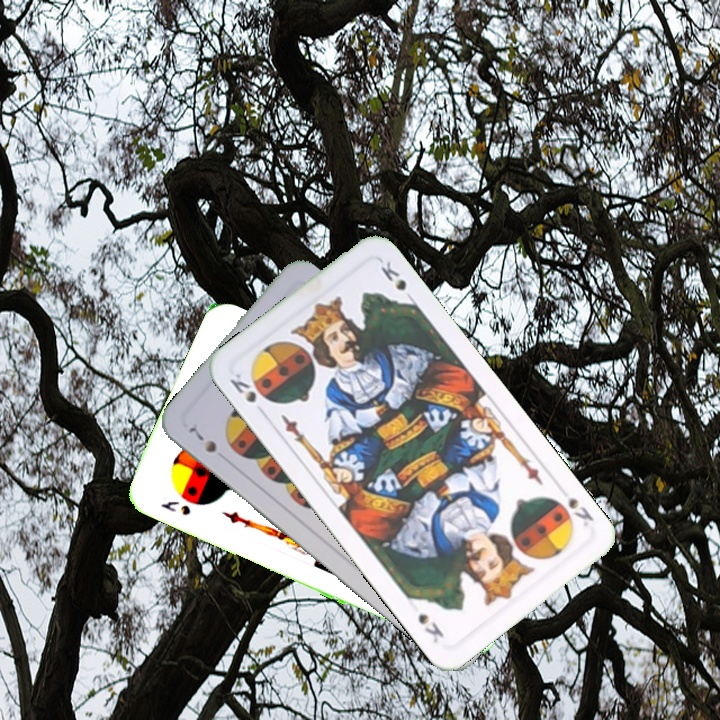S7: (185, 422, 220, 455)
SK: (225, 369, 269, 419), (564, 493, 596, 529), (156, 496, 193, 519)
